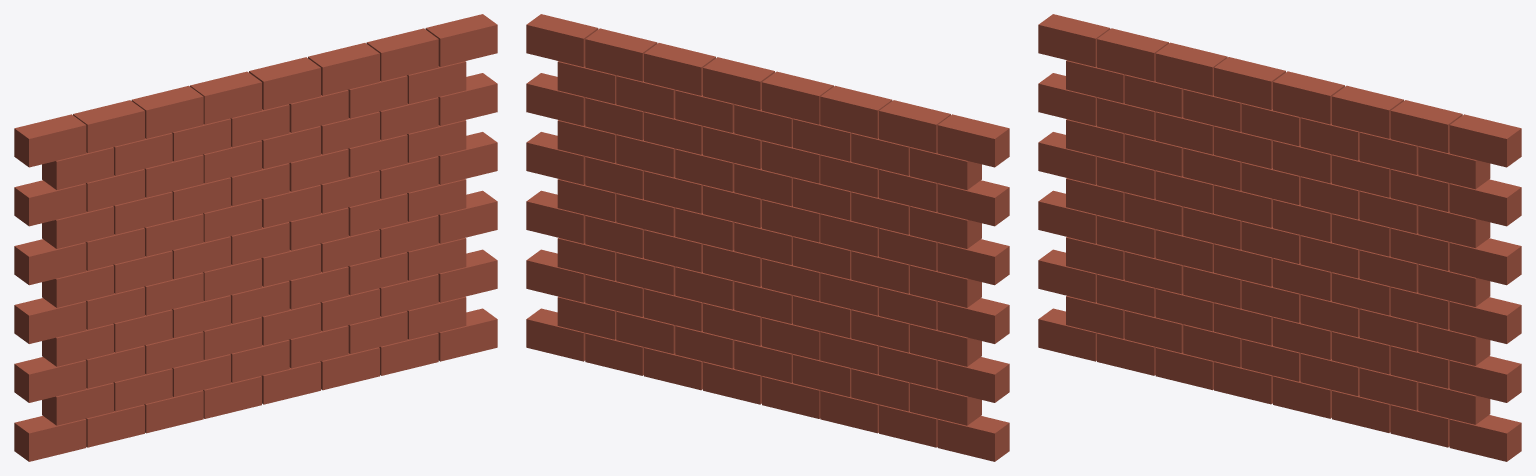
Rendered from brickwall.fbx.
3 views of the same model, side by side, from view 1: azimuth 30°, elevation 25°; view 2: azimuth 150°, elevation 25°; view 3: azimuth 330°, elevation 25° (orthographic).
Parts seen in each view (by area): view 1: Cube.075, Cube.082, Cube.079, Cube.081, Cube.077, Cube.080, Cube, Cube.060, Cube.076, Cube.078, Cube.030, Cube.045 (+71 smaller); view 2: Cube.075, Cube.082, Cube.079, Cube.081, Cube.077, Cube.080, Cube, Cube.060, Cube.076, Cube.078, Cube.030, Cube.045 (+71 smaller); view 3: Cube.082, Cube.007, Cube.037, Cube.067, Cube.022, Cube.052, Cube.081, Cube.078, Cube.080, Cube.075, Cube.079, Cube.077 (+71 smaller).
Boxes of the visible parts, bbox=[...] form: Cube.075: bbox=[14, 114, 86, 167]; Cube.082: bbox=[425, 14, 497, 66]; Cube.079: bbox=[249, 57, 320, 109]; Cube.081: bbox=[366, 28, 438, 81]; Cube.077: bbox=[131, 85, 203, 138]; Cube.080: bbox=[308, 43, 379, 95]; Cube: bbox=[14, 416, 86, 461]; Cube.060: bbox=[14, 180, 86, 226]; Cube.076: bbox=[73, 100, 144, 152]; Cube.078: bbox=[190, 71, 261, 124]; Cube.030: bbox=[14, 298, 86, 343]; Cube.045: bbox=[14, 239, 86, 285]; Cube.075: bbox=[937, 114, 1009, 167]; Cube.082: bbox=[526, 14, 598, 66]; Cube.079: bbox=[703, 57, 774, 109]; Cube.081: bbox=[585, 28, 657, 81]; Cube.077: bbox=[820, 85, 892, 138]; Cube.080: bbox=[644, 43, 715, 95]; Cube: bbox=[937, 416, 1009, 461]; Cube.060: bbox=[937, 180, 1009, 226]; Cube.076: bbox=[879, 100, 950, 152]; Cube.078: bbox=[762, 71, 833, 124]; Cube.030: bbox=[937, 298, 1009, 343]; Cube.045: bbox=[937, 239, 1009, 285]; Cube.082: bbox=[1449, 114, 1521, 167]; Cube.007: bbox=[1449, 415, 1521, 461]; Cube.037: bbox=[1449, 297, 1521, 343]; Cube.067: bbox=[1449, 179, 1521, 226]; Cube.022: bbox=[1449, 356, 1521, 402]; Cube.052: bbox=[1449, 238, 1521, 285]; Cube.081: bbox=[1390, 100, 1462, 152]; Cube.078: bbox=[1214, 57, 1285, 109]; Cube.080: bbox=[1332, 85, 1403, 138]; Cube.075: bbox=[1038, 14, 1110, 66]; Cube.079: bbox=[1273, 71, 1344, 124]; Cube.077: bbox=[1155, 42, 1227, 95].
Bounding box in the file's own units: 900 × 592 × 48.94.
